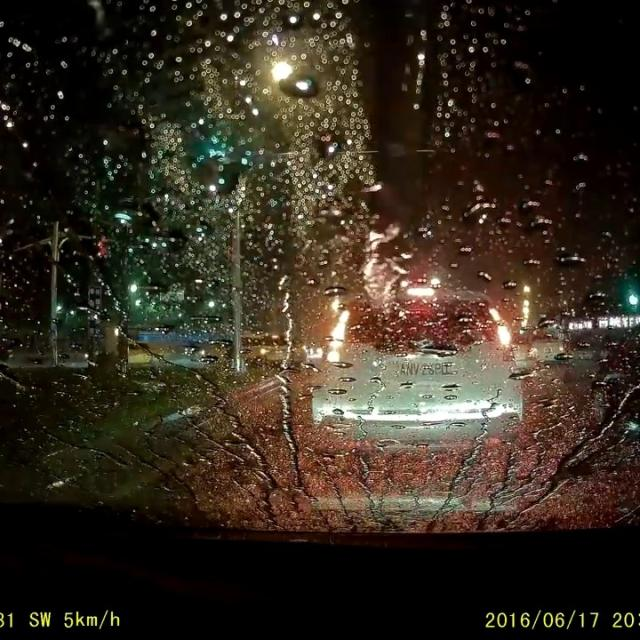Car: (306, 287, 530, 468), (226, 332, 296, 367), (525, 333, 566, 361)
